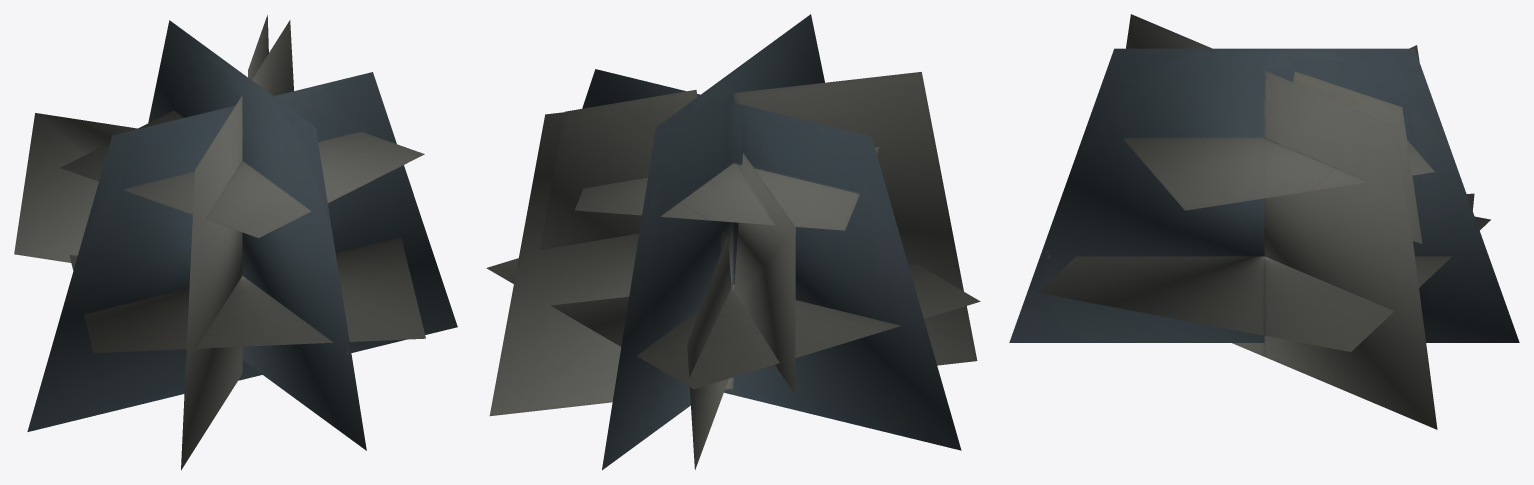
The model's file is park-canopy-zero-unit-tripo-original.glb.
The picture shows the model from 3 angles, left to right: view 1: azimuth 30°, elevation 25°; view 2: azimuth 150°, elevation 25°; view 3: azimuth 270°, elevation 25°; orthographic projection. The views are drawn at different scales.
Visible parts, largest first — view 1: Authored_surface; view 2: Authored_surface; view 3: Authored_surface.
Boxes of the visible parts, bbox=[...] form: Authored_surface: bbox=[14, 15, 457, 470]; Authored_surface: bbox=[486, 14, 980, 470]; Authored_surface: bbox=[1009, 14, 1519, 429].
Bounding box in the file's own units: 1 × 0.6794 × 1.
Materials: 1 (1 with a texture image).
